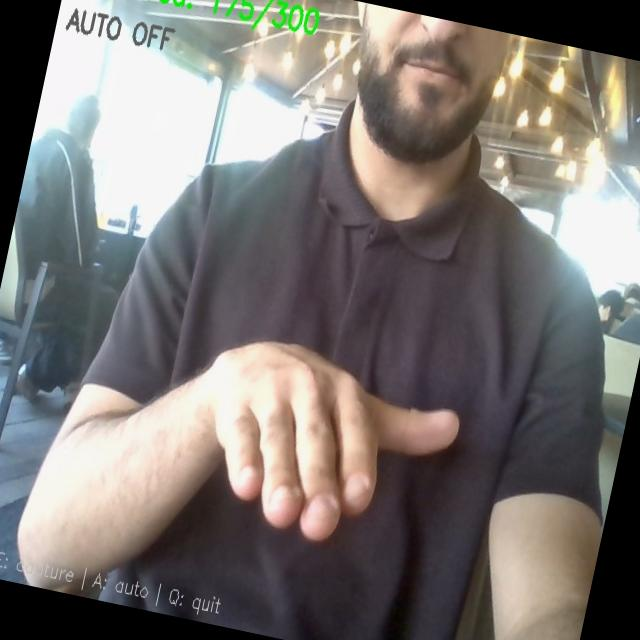Hand: (204, 342, 458, 540)
